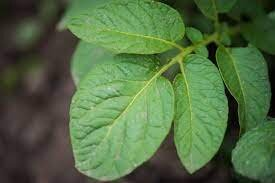potato_leaf: (68, 60, 177, 183), (174, 54, 228, 177), (67, 1, 186, 54), (216, 44, 272, 131)
